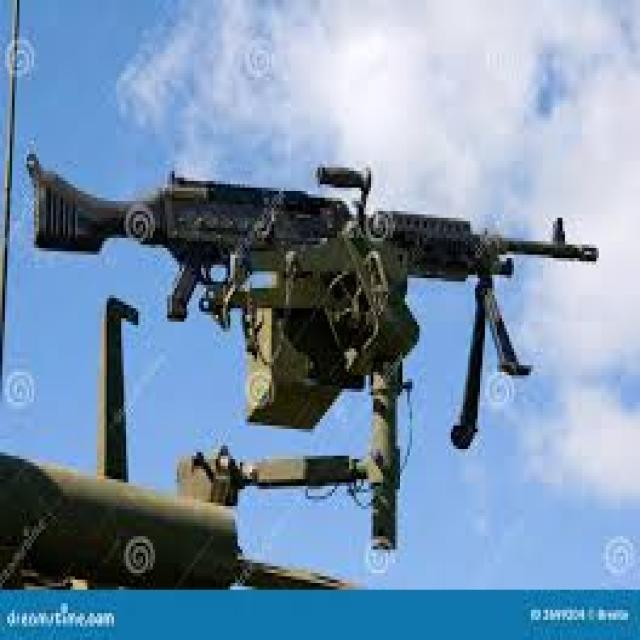Gun: (15, 129, 604, 454)
